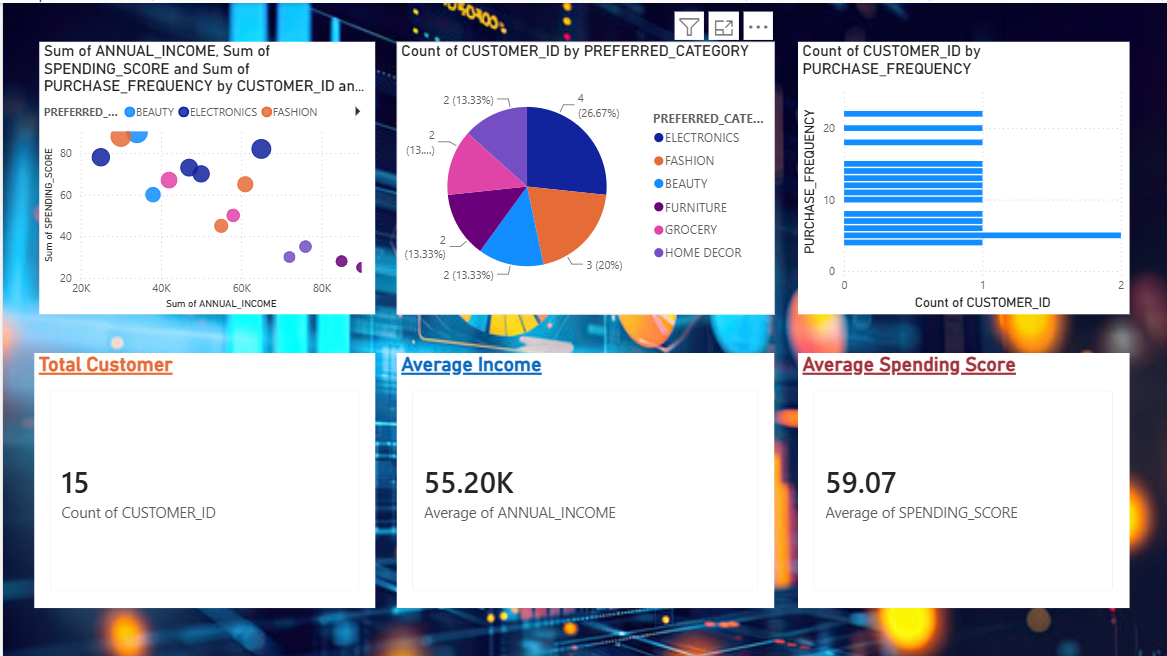

The dashboard page shown, as its layout file describes it:
{"tool":"powerbi","page":{"name":"Page 1","canvas":[1280,720],"ordinal":0},"visuals":[{"type":"scatterChart","fields":{"Category":["Customer Data.CUSTOMER_ID"],"X":["Sum(Customer Data.ANNUAL_INCOME)"],"Y":["Sum(Customer Data.SPENDING_SCORE)"],"Series":["Customer Data.PREFERRED_CATEGORY"],"Size":["Sum(Customer Data.PURCHASE_FREQUENCY)"]},"box":[39.8,42.5,369.1,299.1],"z":0},{"type":"pieChart","fields":{"Category":["Customer Data.PREFERRED_CATEGORY"],"Y":["CountNonNull(Customer Data.CUSTOMER_ID)"]},"box":[432.2,42.5,414.4,299.1],"z":1},{"type":"clusteredBarChart","fields":{"Category":["Customer Data.PURCHASE_FREQUENCY"],"Y":["CountNonNull(Customer Data.CUSTOMER_ID)"]},"box":[872.7,42.5,363.6,299.1],"z":2},{"type":"cardVisual","title":"Total Customer","fields":{"Data":["Count(Customer Data.CUSTOMER_ID)"]},"box":[34.3,384.2,374.6,279.9],"z":3},{"type":"cardVisual","title":"Average Income","fields":{"Data":["Avg(Customer Data.ANNUAL_INCOME)"]},"box":[432.2,384.2,414.4,279.9],"z":4},{"type":"cardVisual","title":"Average Spending Score","fields":{"Data":["Avg(Customer Data.SPENDING_SCORE)"]},"box":[872.7,384.2,363.6,279.9],"z":5}]}

Visuals, with their boxes in screenshot pixels (x1, y1, x2, y2), scaled from the page's 1280x720 canvas onto the 1167x656 screenshot:
scatterChart - Customer Data.CUSTOMER_ID x Sum(Customer Data.ANNUAL_INCOME): 36,39,373,311
pieChart - Customer Data.PREFERRED_CATEGORY x CountNonNull(Customer Data.CUSTOMER_ID): 394,39,772,311
clusteredBarChart - Customer Data.PURCHASE_FREQUENCY x CountNonNull(Customer Data.CUSTOMER_ID): 796,39,1127,311
"Total Customer" cardVisual: 31,350,373,605
"Average Income" cardVisual: 394,350,772,605
"Average Spending Score" cardVisual: 796,350,1127,605
